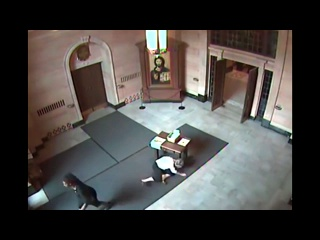Assault: (62, 172, 122, 209)
